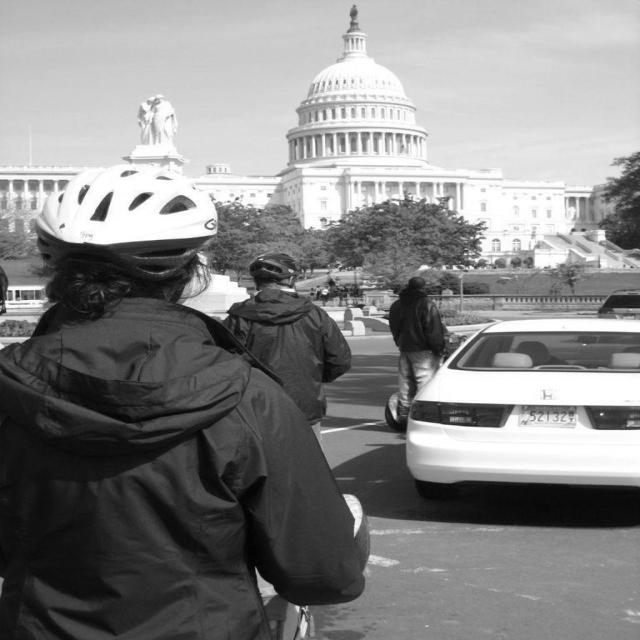plate: (520, 406, 577, 427)
